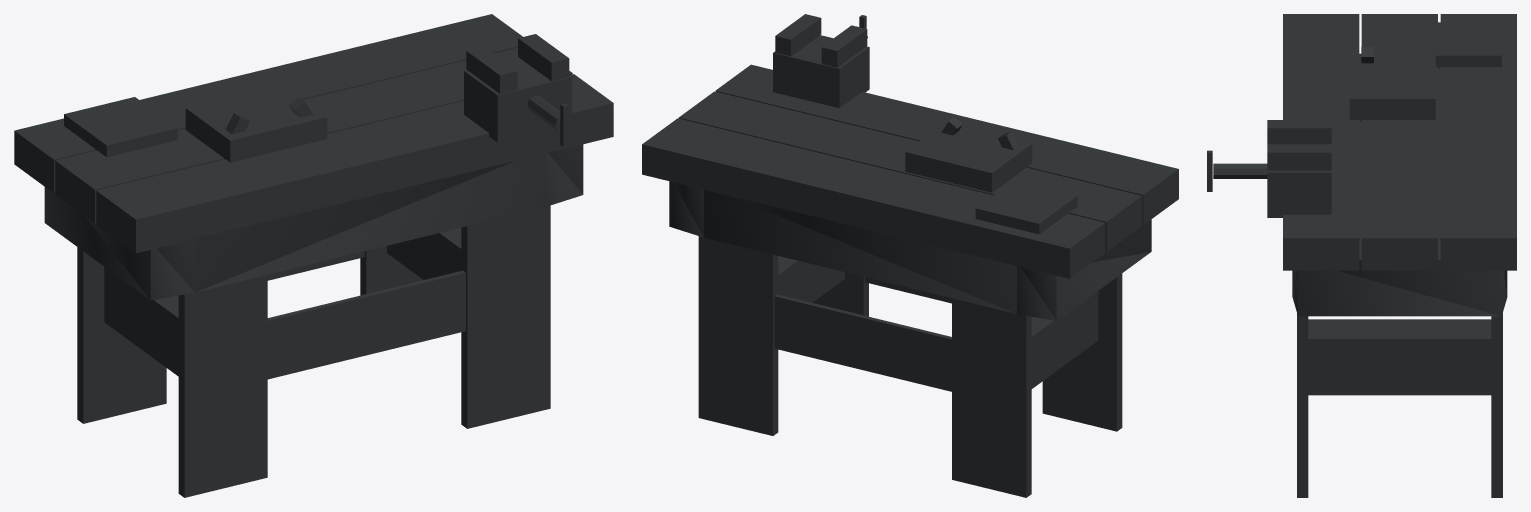
The model's file is WORKSHOP_BENCH.shadow.glb.
3 views of the same model, side by side, from view 1: azimuth 30°, elevation 25°; view 2: azimuth 150°, elevation 25°; view 3: azimuth 270°, elevation 25° (orthographic). The views are drawn at different scales.
Parts seen in each view (by area): view 1: Body_Mesh; view 2: Body_Mesh; view 3: Body_Mesh.
Boxes of the visible parts, x1,y1,x2,y2 form: Body_Mesh: (14,14,613,497); Body_Mesh: (642,14,1178,497); Body_Mesh: (1207,14,1516,497).
Bounding box in the file's own units: 1.48 × 1.07 × 0.8645.
1 material, 1 textured.
